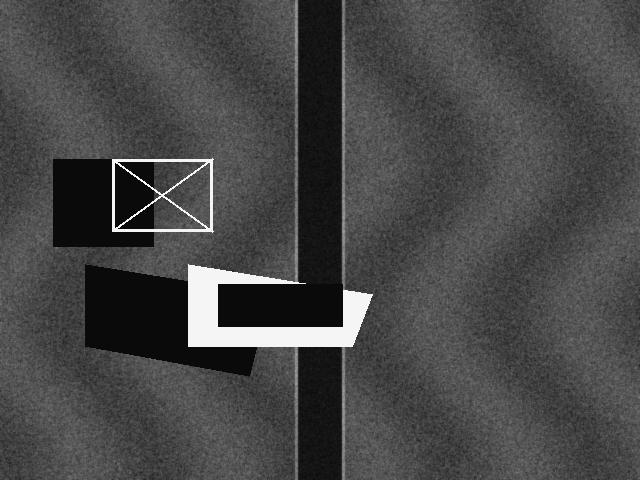Abandoned Equipment: (112, 159, 212, 231)
Ship/Boat Debris: (188, 264, 372, 346)
